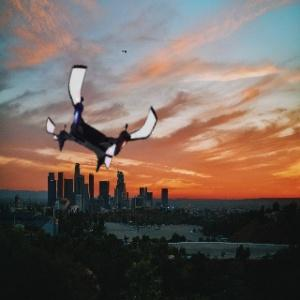drone: (47, 67, 160, 180)
